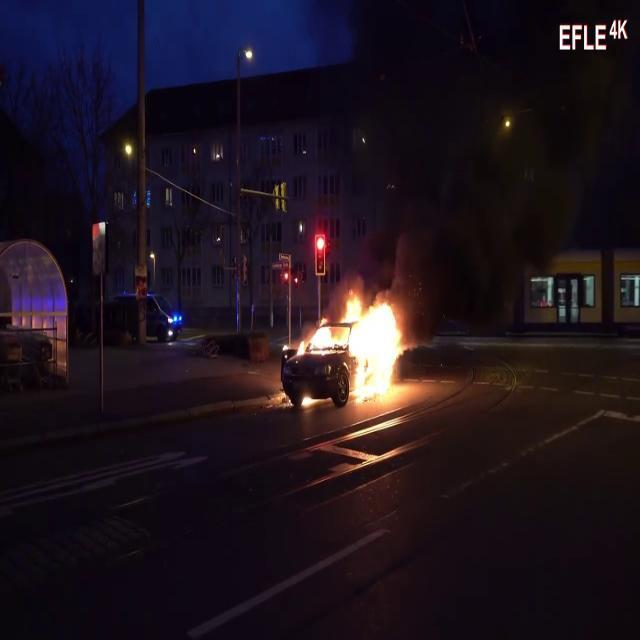Fire: (338, 290, 408, 403), (296, 316, 338, 359)
